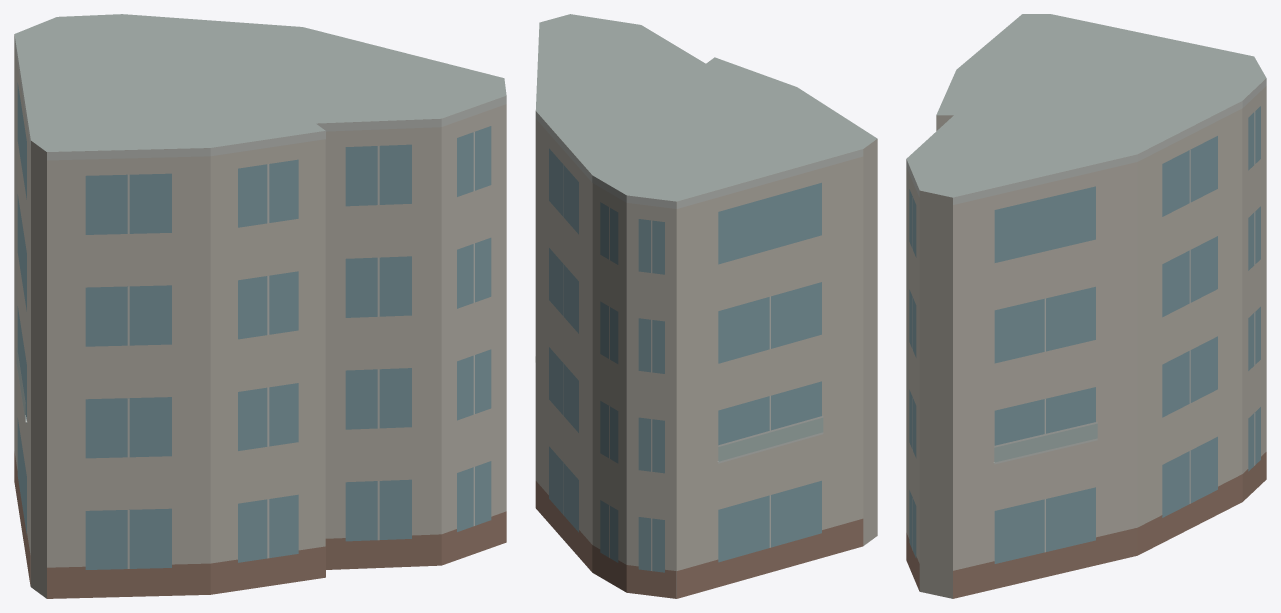
File: survey-upis-32477002.glb
3 renders of one model, left to right at view 1: azimuth 30°, elevation 25°; view 2: azimuth 150°, elevation 25°; view 3: azimuth 270°, elevation 25°, orthographic. The views are drawn at different scales.
Parts seen in each view (by area): view 1: survey-upis-32477002.tmp; view 2: survey-upis-32477002.tmp; view 3: survey-upis-32477002.tmp.
Part boxes in pixels (x1,y1,x2,y2): survey-upis-32477002.tmp: (14,14,506,598); survey-upis-32477002.tmp: (535,14,877,598); survey-upis-32477002.tmp: (906,14,1266,598).
Bounding box in the file's own units: 12.77 × 13 × 10.59.
